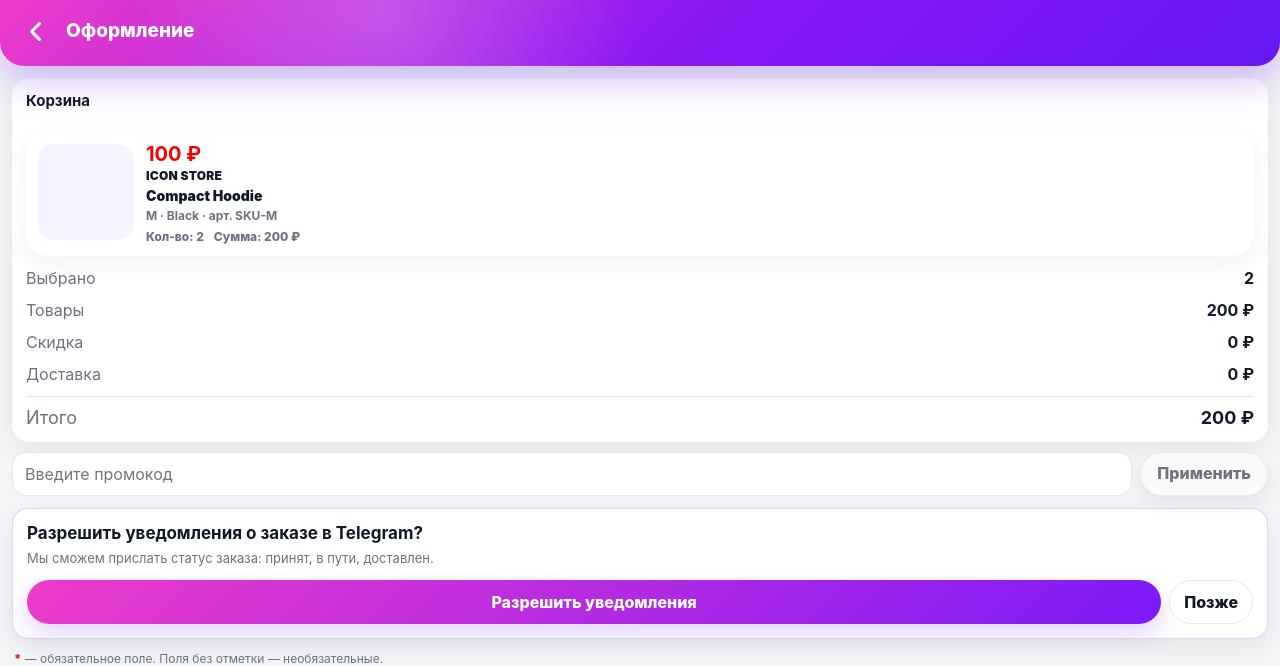
Test: CheckoutPage notification write access › shows the Bot 1 fallback when requestWriteAccess is unavailable
Step 1. Click the button "Разрешить уведомления" → point(594, 602), box [27, 580, 1161, 624]
(page scrolled)
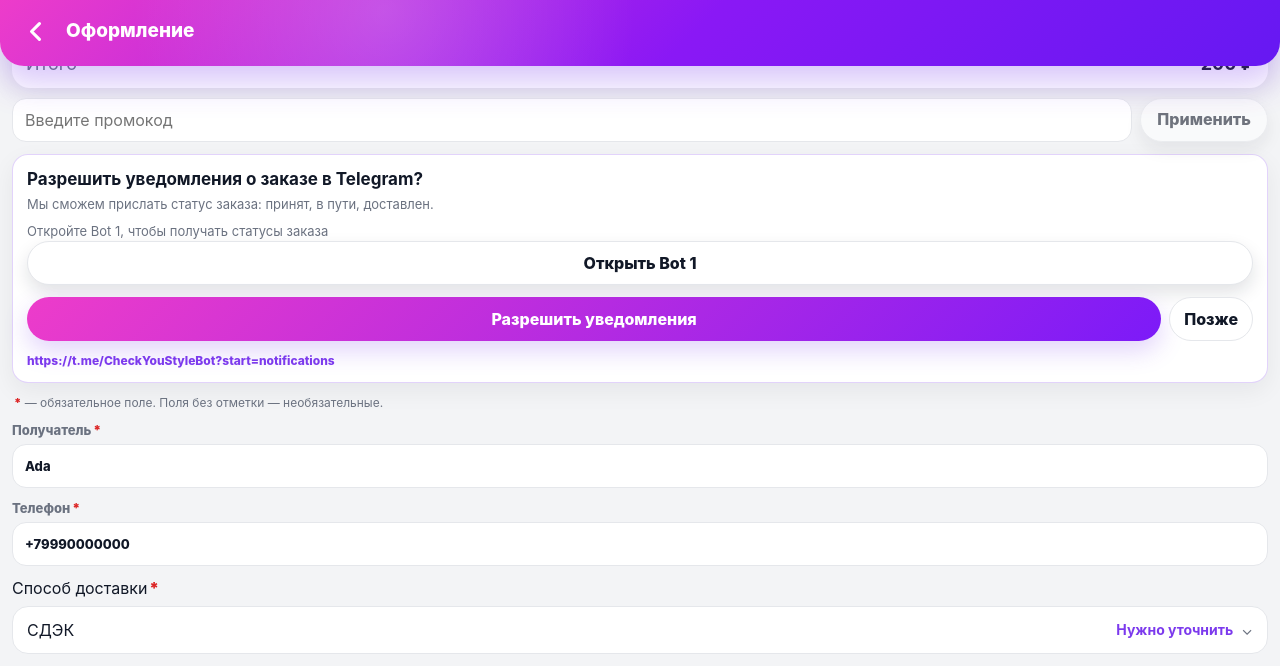
Check: the text "Откройте Bot 1, чтобы получать статусы заказа" is shown, box [27, 223, 328, 239]
Check: the link "https://t.me/CheckYouStyleBot?start=notifications" is shown, box [27, 353, 335, 368]
